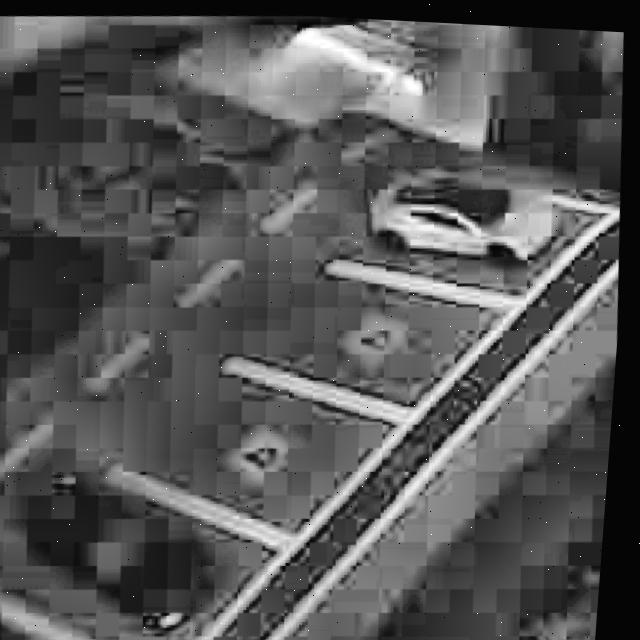car: (18, 455, 248, 640), (361, 149, 571, 279)
